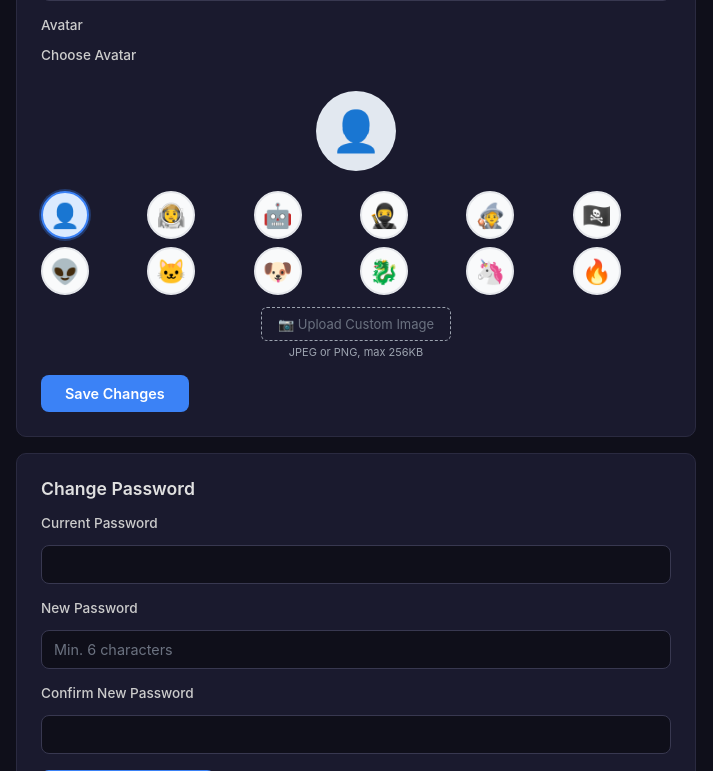
Test: ProfileView › shows success after profile update
The width and height of the screenshot is (713, 771).
(page scrolled)
Click the button with test id "profile-save": (115, 394) [41, 375, 189, 412]
(page scrolled)
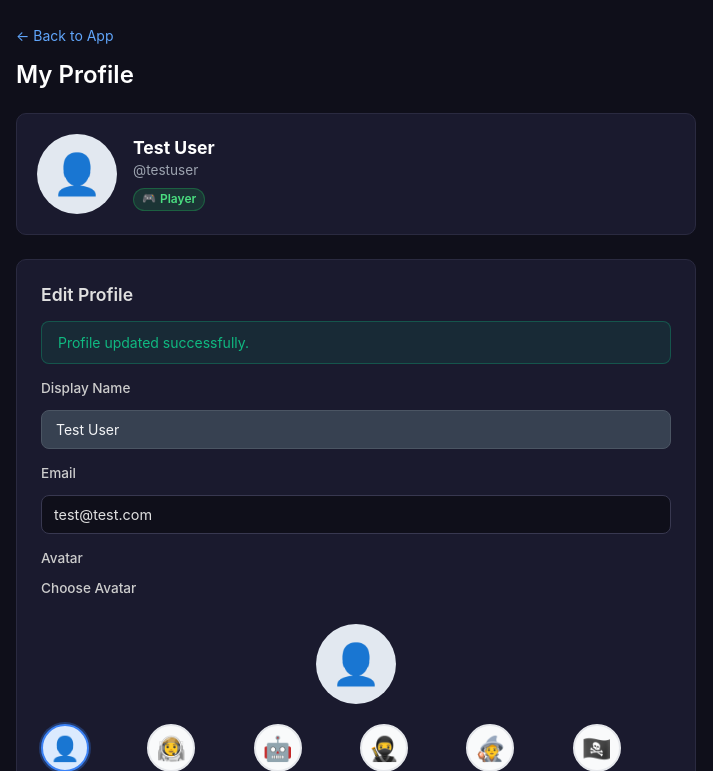
Expected: the message with test id "profile-success" shows "Profile updated", [58, 334, 249, 351]
